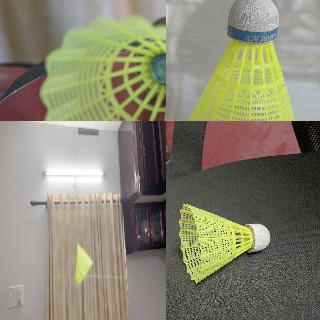shuttlecock: (184, 0, 298, 120), (40, 15, 165, 120), (178, 203, 270, 283), (73, 243, 92, 293)
